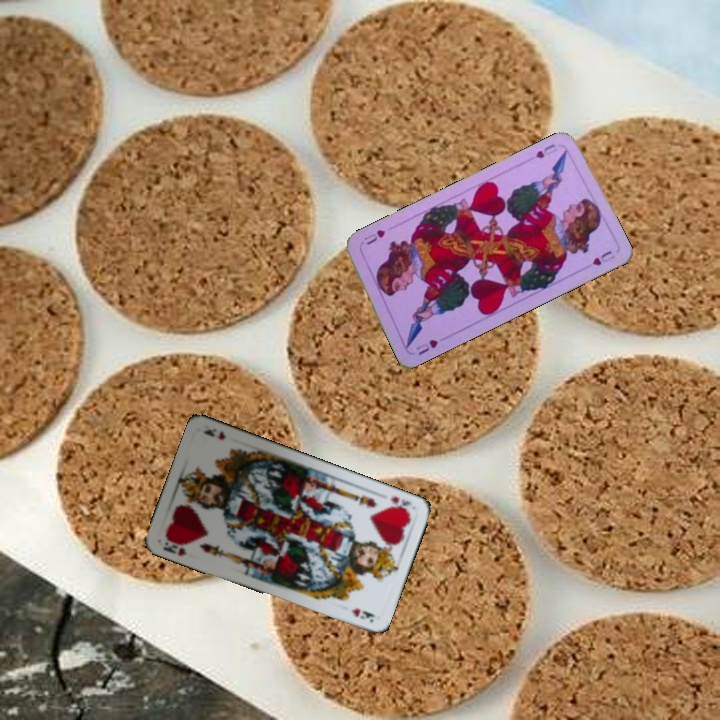HK: (159, 533, 191, 559), (386, 492, 414, 516)
HU: (412, 335, 441, 358), (531, 139, 560, 161)
